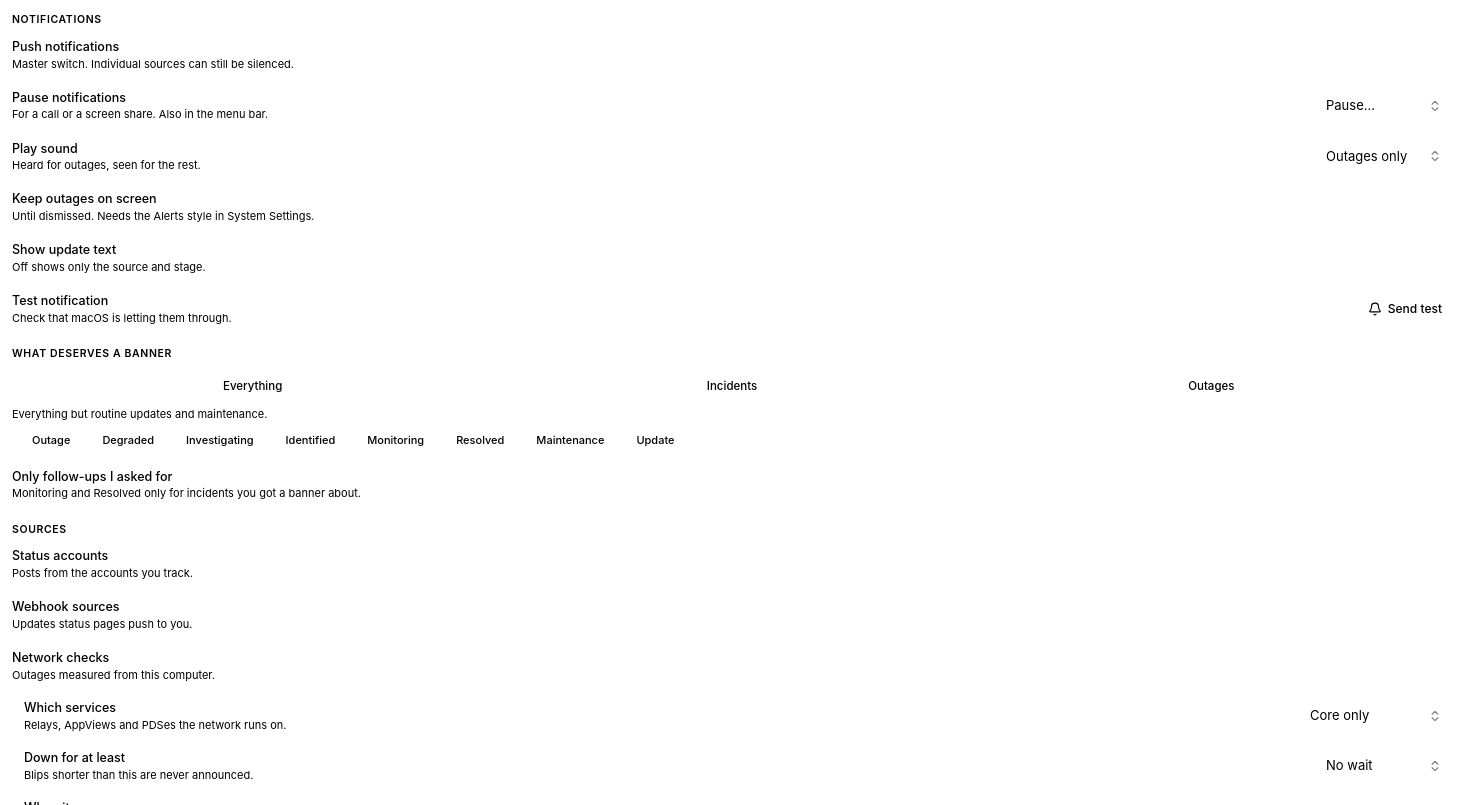
Test: a change main refuses › puts a stage chip back, and says why under the chips
This screenshot has width=1464, height=805.
Click the button "Degraded": x=122, y=440 left=82, top=430, right=162, bottom=451
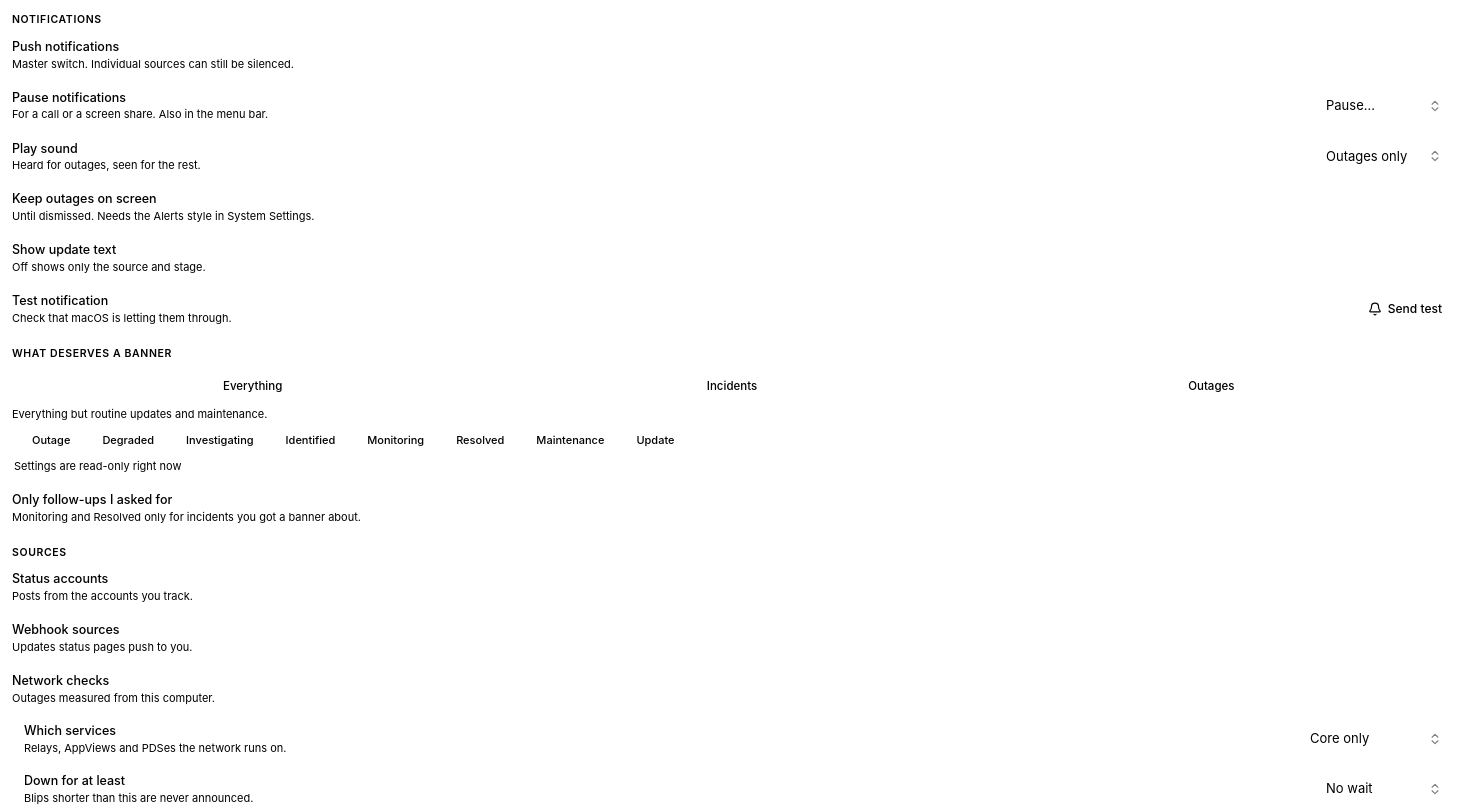
Result: the message shows "read-only" at left=14, top=459, right=181, bottom=473
